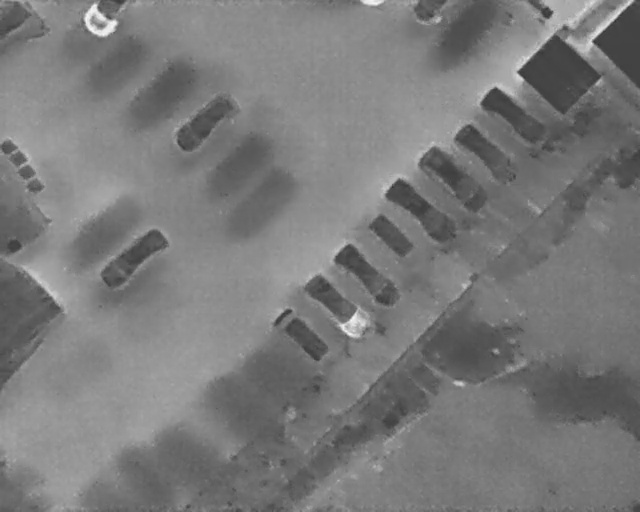Car: (378, 172, 463, 247), (414, 138, 495, 215), (296, 268, 378, 343), (93, 220, 174, 295), (331, 237, 407, 313), (476, 81, 552, 149), (169, 87, 239, 157), (451, 120, 523, 188), (268, 301, 336, 367), (83, 0, 133, 37), (411, 0, 457, 24)
